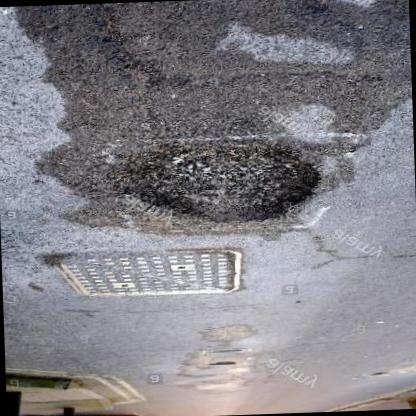pothole: (102, 134, 324, 233), (205, 361, 241, 368)
